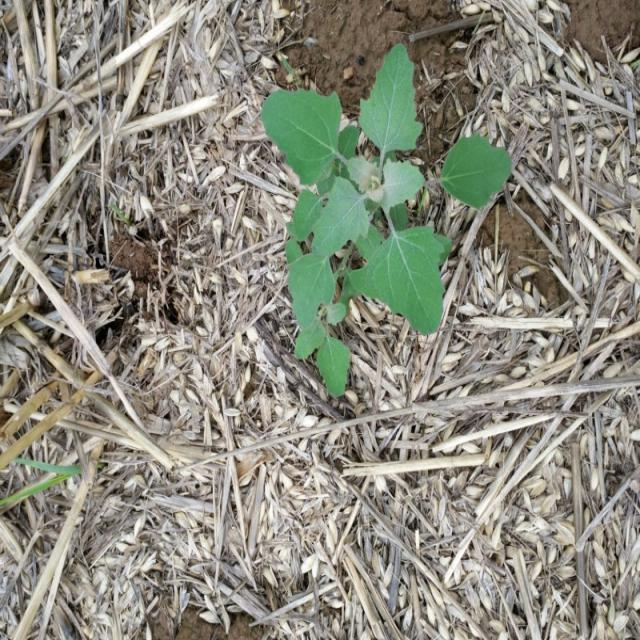goosefoots: (233, 55, 502, 365)
